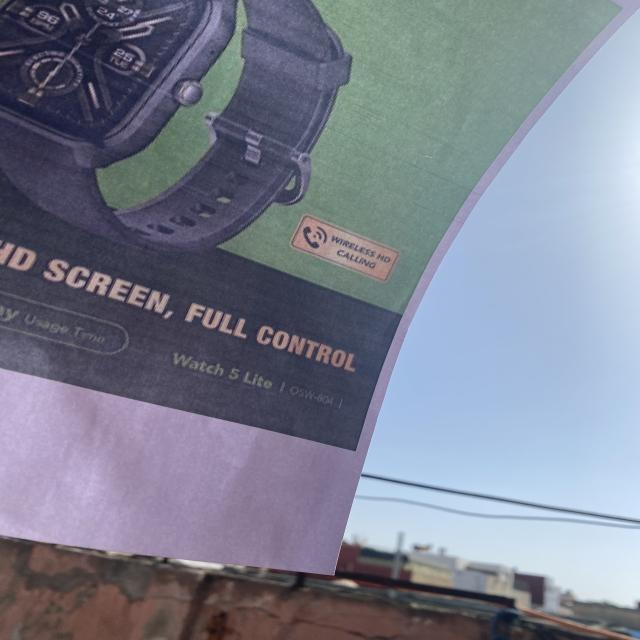Watch 5 Lite OSW-804: (163, 342, 352, 414)
